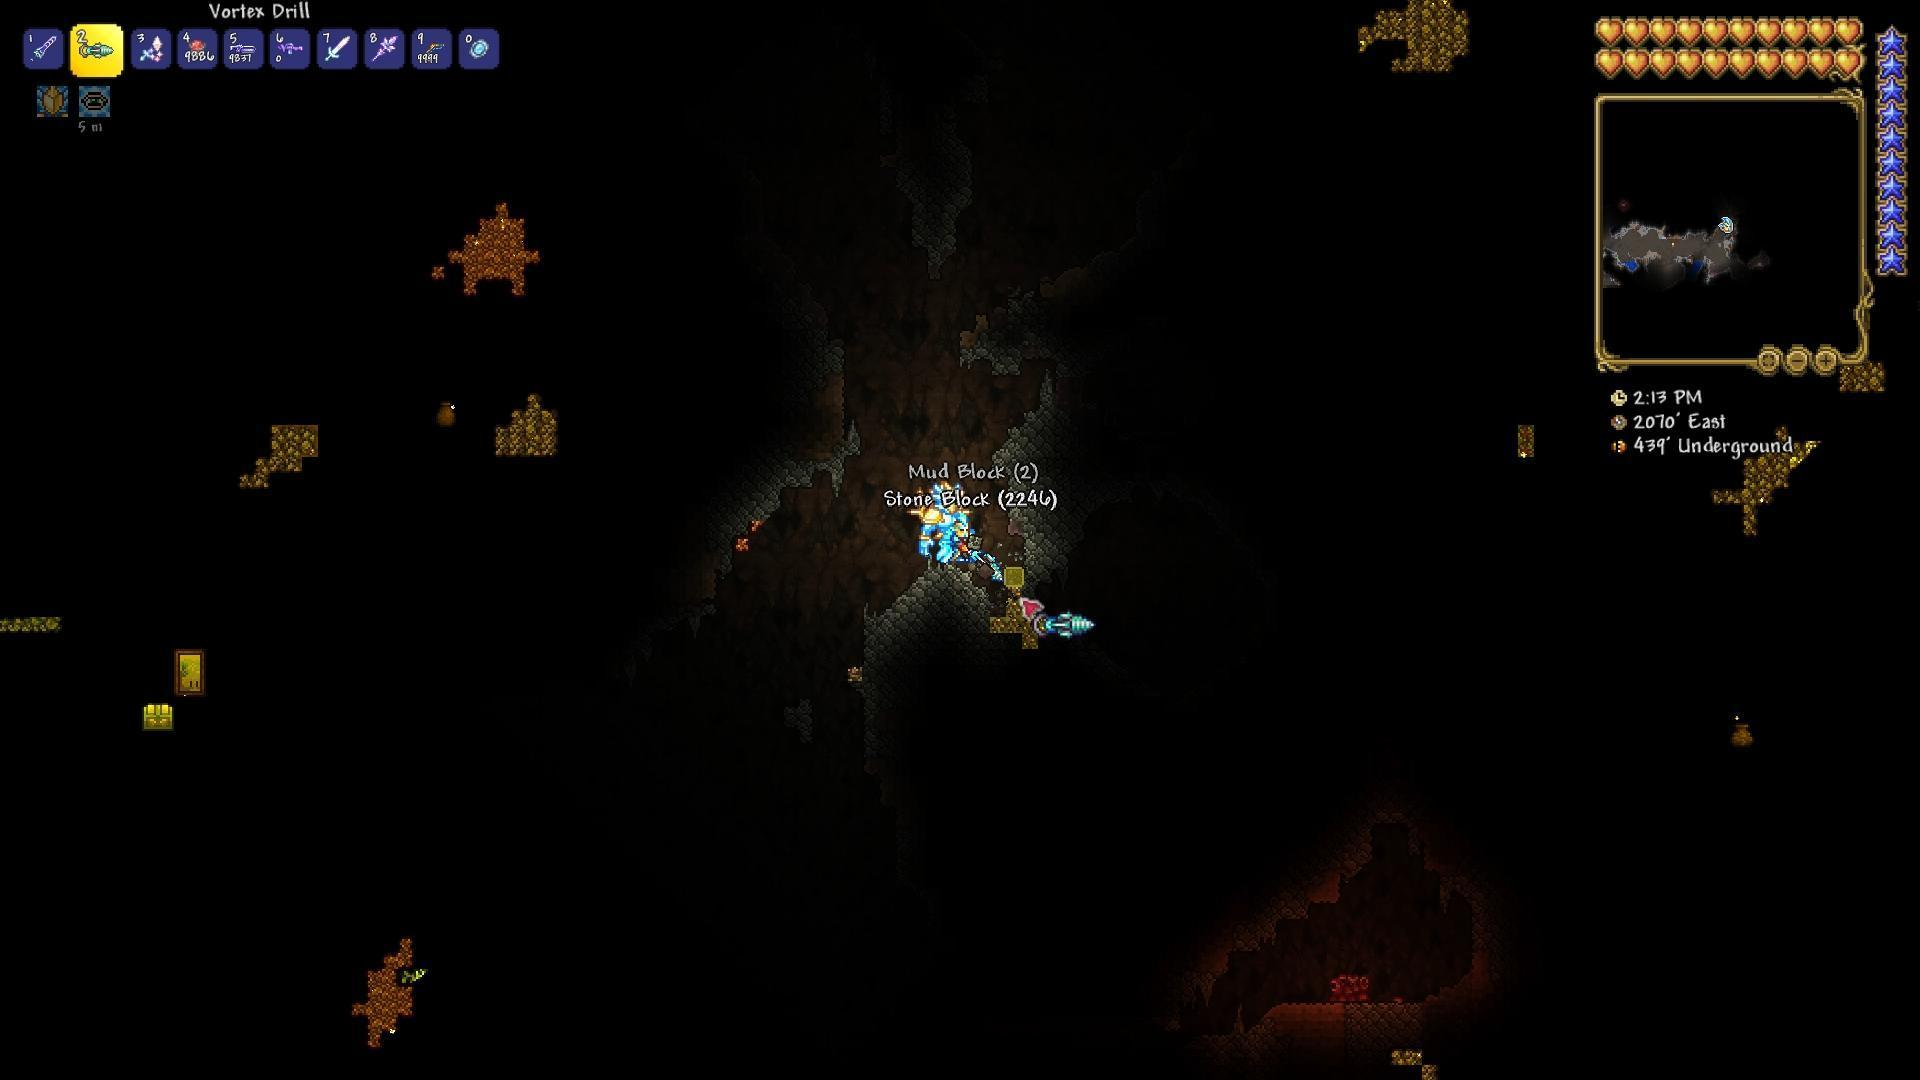chest: (142, 696, 173, 735)
mirror: (465, 36, 493, 63)
pot: (1726, 717, 1756, 749), (434, 396, 458, 425)
